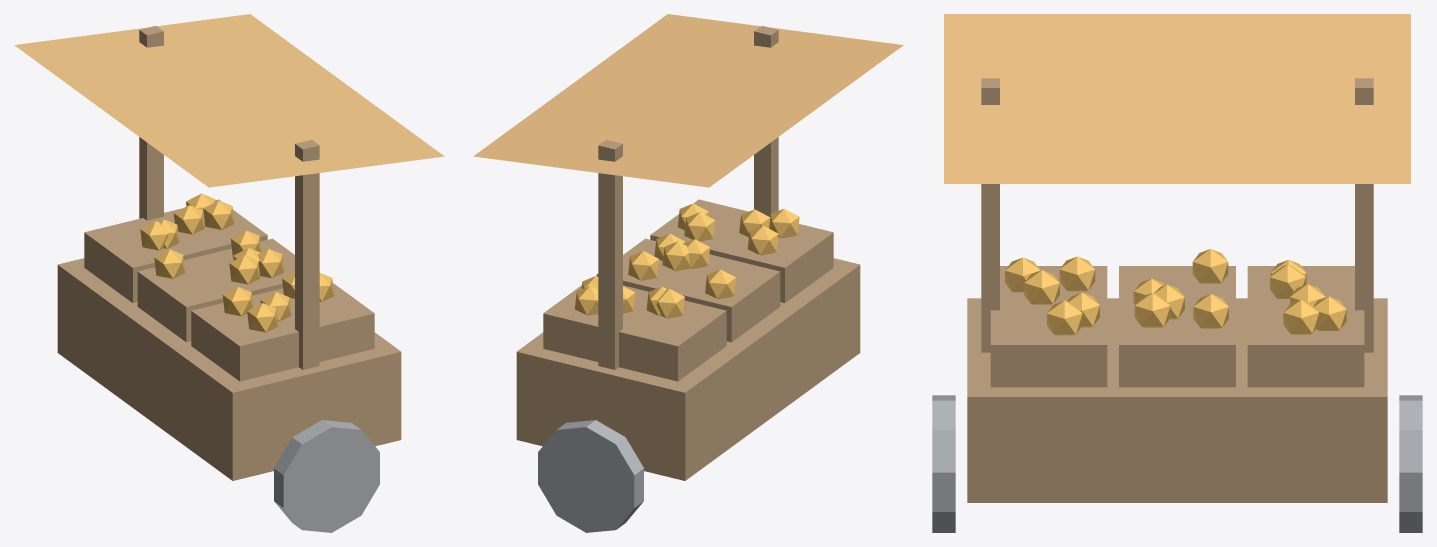
The model's file is Prop_OrangeStall.fbx.
The picture shows the model from 3 angles, left to right: view 1: azimuth 30°, elevation 25°; view 2: azimuth 150°, elevation 25°; view 3: azimuth 270°, elevation 25°; orthographic projection. The views are drawn at different scales.
Visible parts, largest first — view 1: Prop_OrangeStall; view 2: Prop_OrangeStall; view 3: Prop_OrangeStall.
Boxes of the visible parts, bbox=[...] form: Prop_OrangeStall: bbox=[14, 14, 444, 532]; Prop_OrangeStall: bbox=[473, 14, 903, 532]; Prop_OrangeStall: bbox=[932, 14, 1422, 532].
Size of the model in its own units: 1.4 by 2.1 by 2.1.
